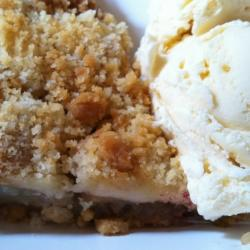apple_pie: (1, 6, 194, 231)
icecream: (144, 2, 250, 217)
